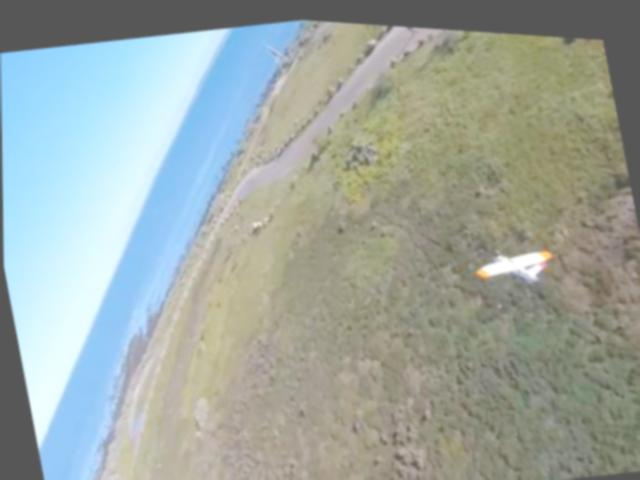uav: (470, 234, 557, 290)
